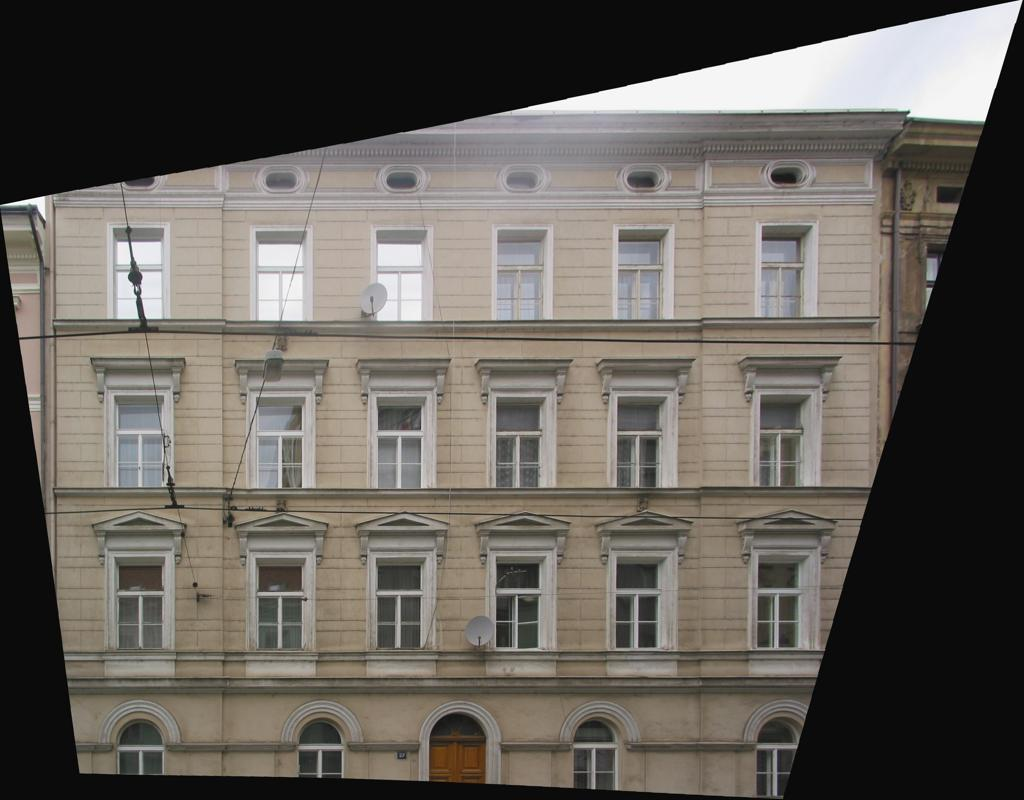window: (617, 556, 668, 652), (759, 555, 810, 650), (496, 557, 546, 651), (115, 557, 165, 651), (496, 396, 547, 488), (376, 558, 427, 650), (256, 558, 306, 651), (497, 229, 548, 320), (618, 396, 668, 488), (761, 395, 811, 487), (256, 231, 307, 321), (763, 225, 812, 318), (113, 228, 163, 319), (378, 397, 428, 488), (619, 229, 669, 320), (115, 396, 164, 488), (377, 231, 427, 321), (257, 397, 306, 488), (574, 717, 624, 796), (754, 717, 804, 796), (299, 717, 349, 796), (115, 718, 165, 797), (767, 159, 813, 188), (382, 166, 423, 193), (502, 165, 543, 192), (624, 164, 665, 191), (120, 165, 161, 190), (261, 167, 303, 191), (938, 186, 965, 204)
